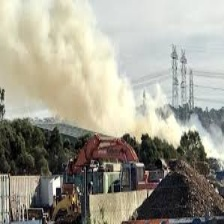smoke: (1, 1, 171, 141)
